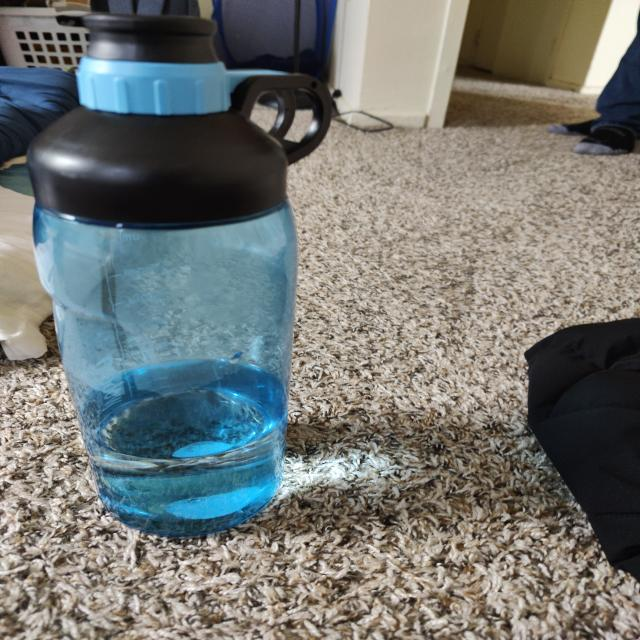bottle: (20, 8, 324, 525)
